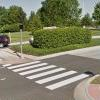Crosswalk: (7, 56, 77, 90)
